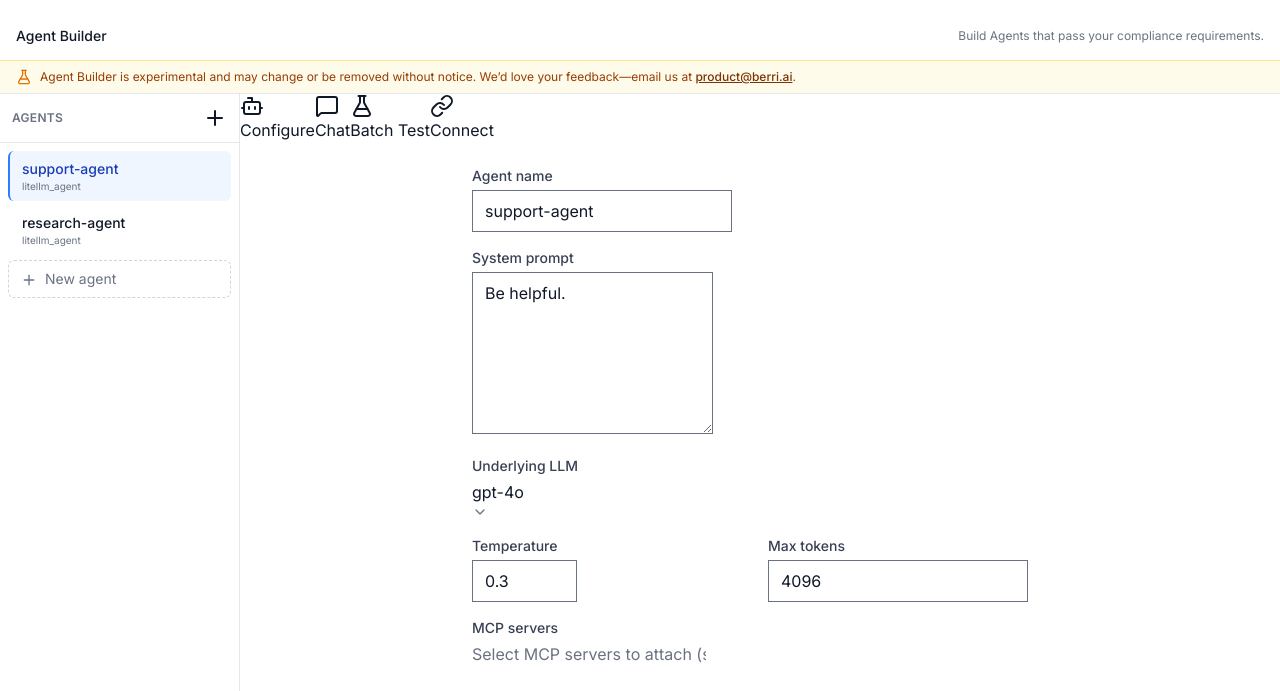
Test: AgentBuilderView › offers a blank draft and a save control for a new agent
This screenshot has width=1280, height=691.
Expected: the button "support-agent litellm_agent" is shown, [8,151,231,201]
Click the button "New agent". click: (120,279)
box: [8,260,231,298]
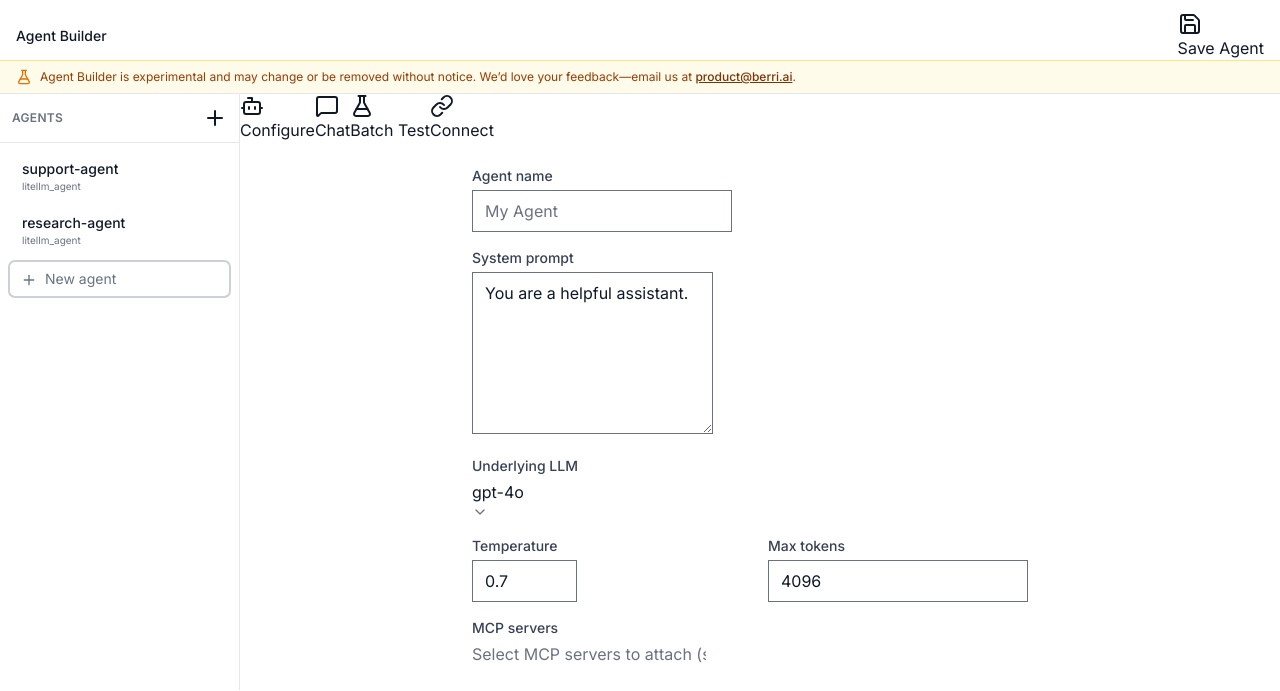
Expected: the text box showing "You are a helpful assistant." is shown, [472,272,713,434]
Now the button "Save Agent" is shown, box [1178,12,1264,60]
